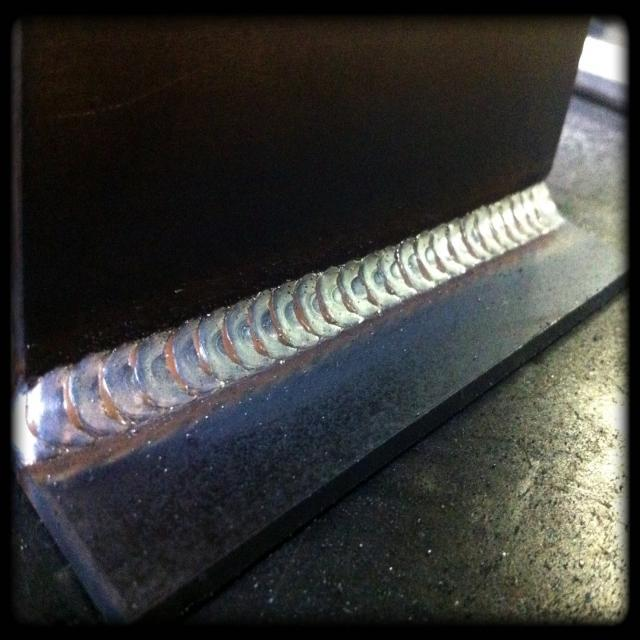Good Weld: (232, 224, 542, 362), (38, 358, 239, 471)
